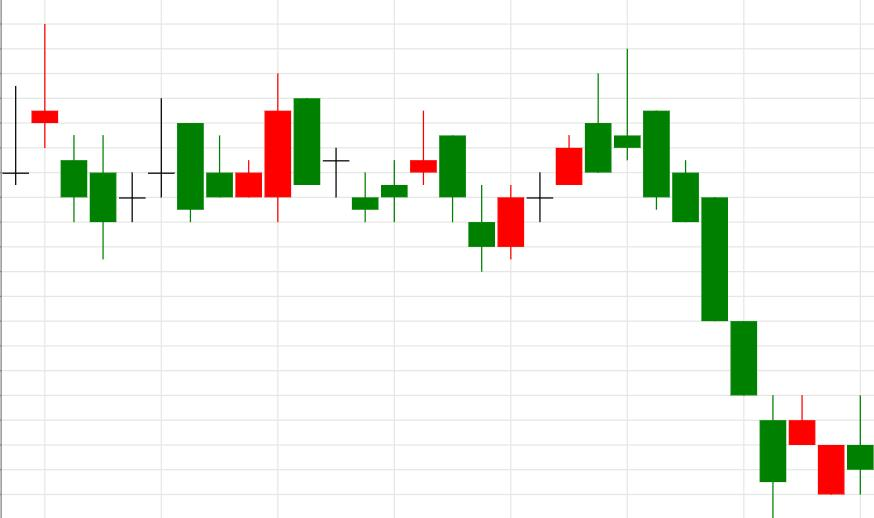three_black_crows_fall: (498, 48, 758, 395)
